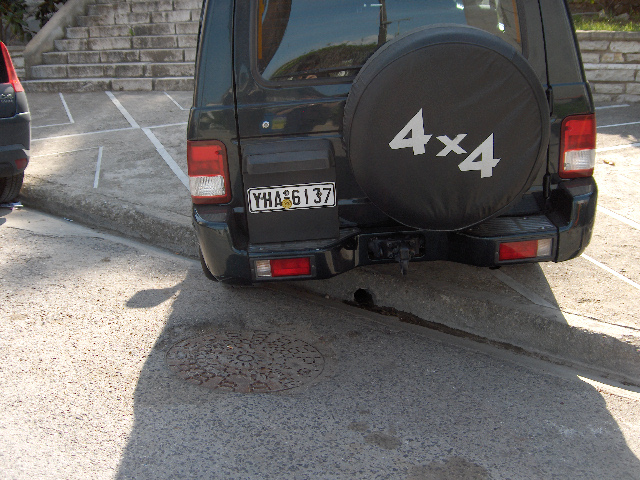licenseplate: (246, 181, 337, 213)
